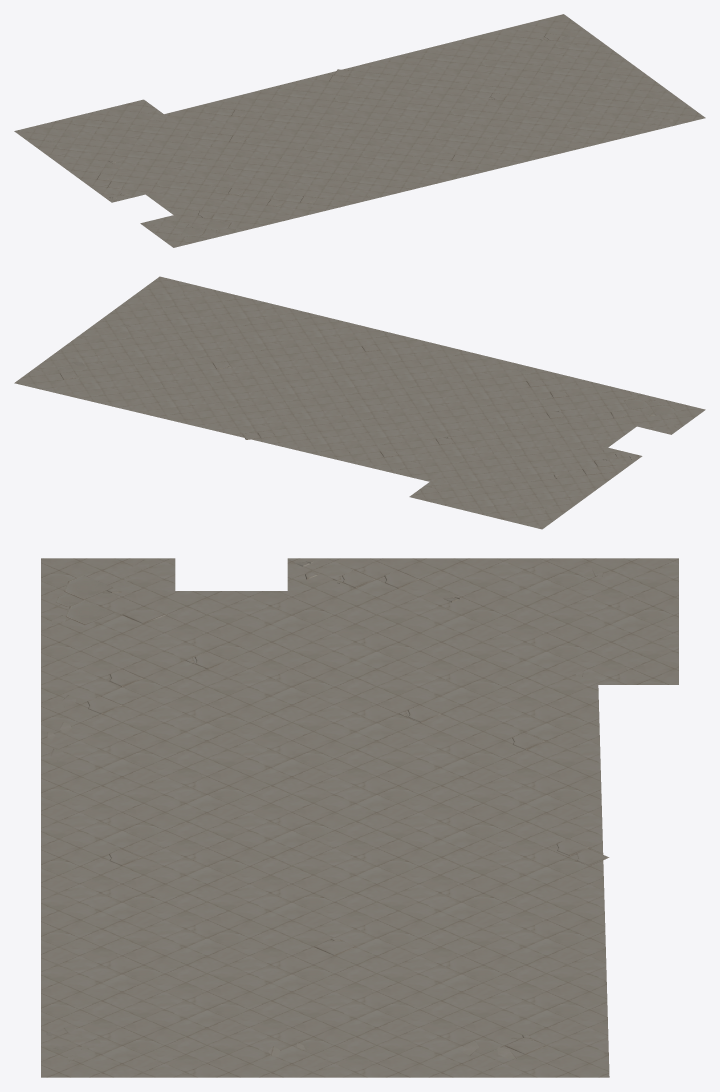
The model's file is SM_ZSJ_Terrain004.FBX.
3 views of the same model, one above another, from view 1: azimuth 30°, elevation 25°; view 2: azimuth 150°, elevation 25°; view 3: azimuth 270°, elevation 25° (orthographic). The views are drawn at different scales.
Parts seen in each view (by area): view 1: SM_ZSJ_Terrain004; view 2: SM_ZSJ_Terrain004; view 3: SM_ZSJ_Terrain004.
Part boxes in pixels (<box>): SM_ZSJ_Terrain004: <box>14,14,705,247</box>; SM_ZSJ_Terrain004: <box>14,276,705,529</box>; SM_ZSJ_Terrain004: <box>41,558,678,1077</box>.
Bounding box in the file's own units: 3885 × 11.68 × 2017.
